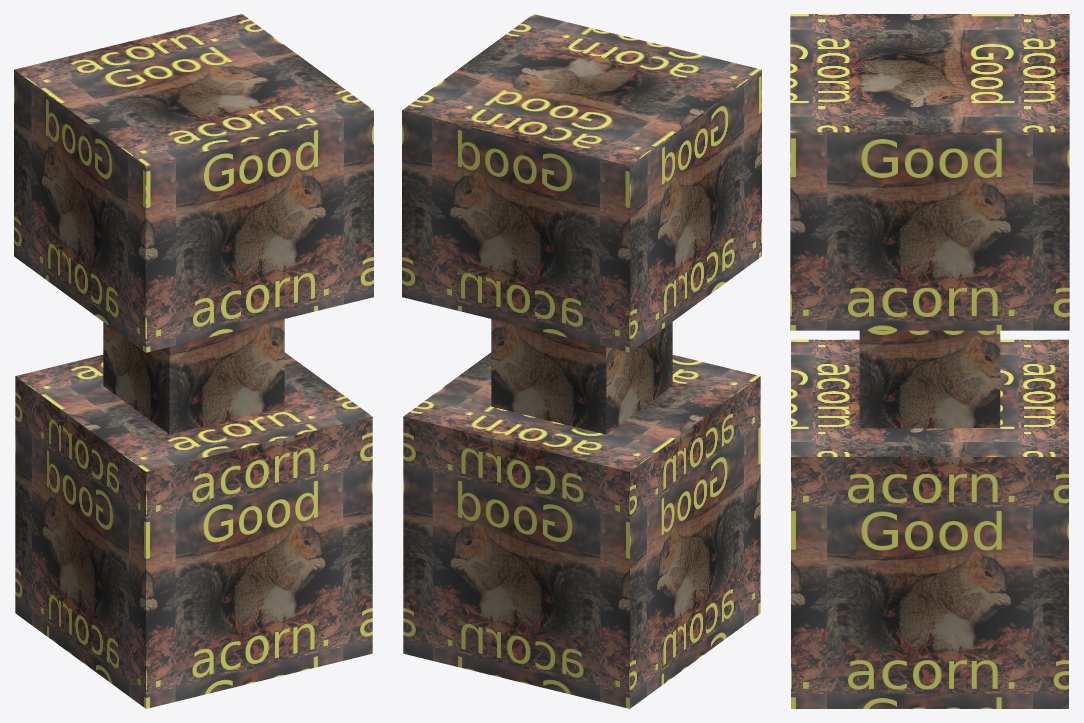
The model's file is textured_sample_thing.gltf.
The picture shows the model from 3 angles, left to right: view 1: azimuth 30°, elevation 25°; view 2: azimuth 150°, elevation 25°; view 3: azimuth 270°, elevation 25°; orthographic projection. The views are drawn at different scales.
Visible parts, largest first — view 1: Cube; view 2: Cube; view 3: Cube.
Part boxes in pixels (<box>): Cube: <box>14,14,373,708</box>; Cube: <box>402,14,761,708</box>; Cube: <box>790,14,1069,708</box>.
Bounding box in the file's own units: 2.01 × 4.58 × 2.01.
Materials: 1 (1 with a texture image).
